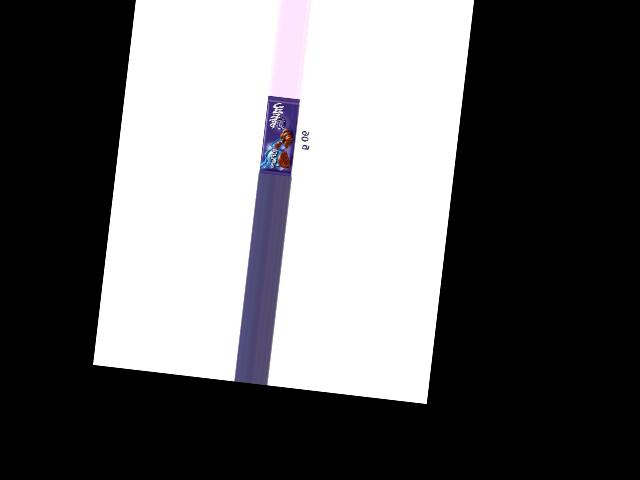chocolate: (258, 97, 299, 177)
